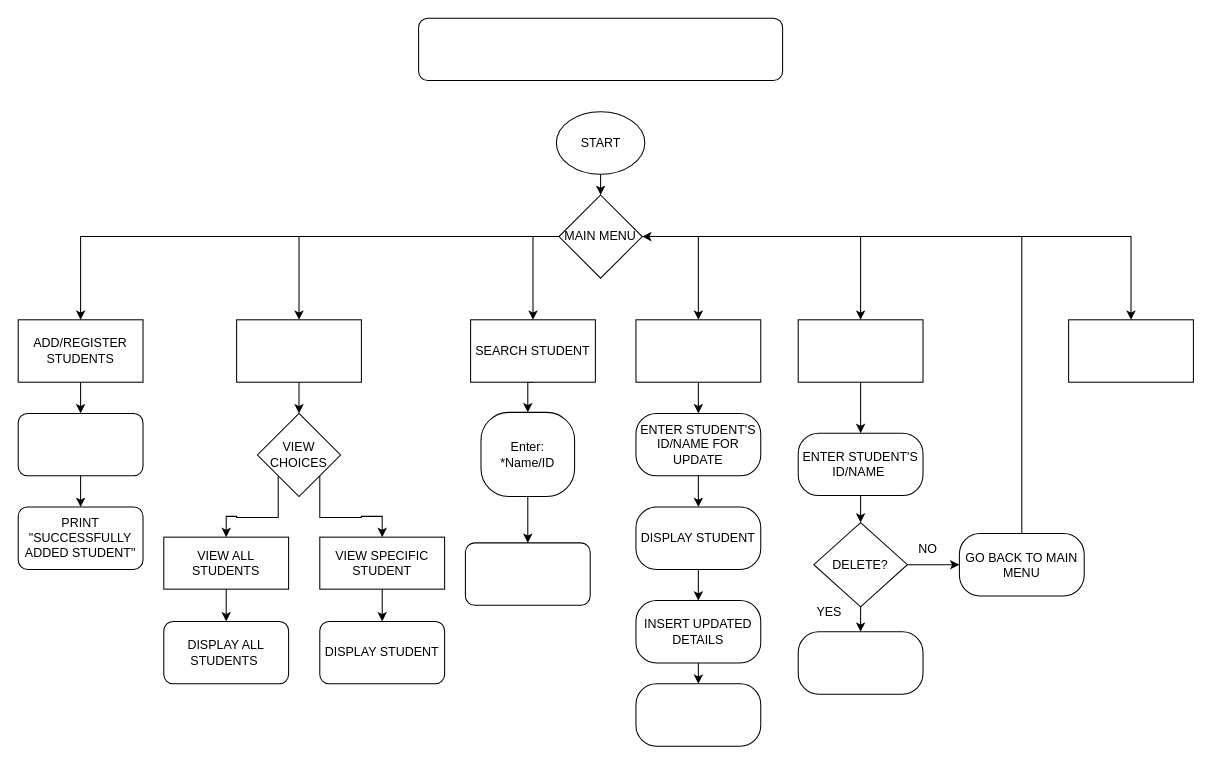
Some shapes in this 1212 by 764 pixel diagram are drawn without their labels. The shapes that lost their labels are listed below. From the top down, each one's centre as x and y in pixels, then its label:
(x=600, y=49): BLOCK DIAGRAM FOR THE STUDENT MANAGEMENT SYSTEM
(x=298, y=350): DISPLAY STUDENTS (names only?)
(x=698, y=350): UPDATE STUDENTS
(x=860, y=350): DELETE STUDENTS
(x=1130, y=350): EXIT
(x=80, y=444): ENTER STUDENT'S * NAME * COURSE * STUDENT ID
(x=527, y=573): DISPLAY STUDENT INFO (name, course, id)
(x=860, y=662): STUDENT DELETED
(x=698, y=714): PRINT "SUCCESSFULLY UPDATED STUDENT INFO
